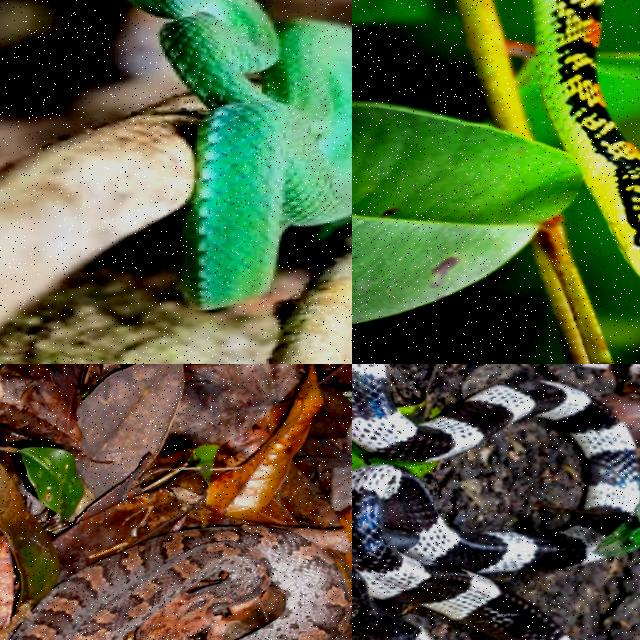Bungarus candidus: (352, 364, 639, 639)
Chrysopelea ornata: (532, 0, 639, 274)
Ovophis monticola: (10, 525, 350, 639)
Trimeresurus macrops: (127, 0, 351, 308)
snake: (352, 364, 639, 639), (127, 0, 351, 308), (10, 525, 350, 639), (532, 0, 639, 274)
